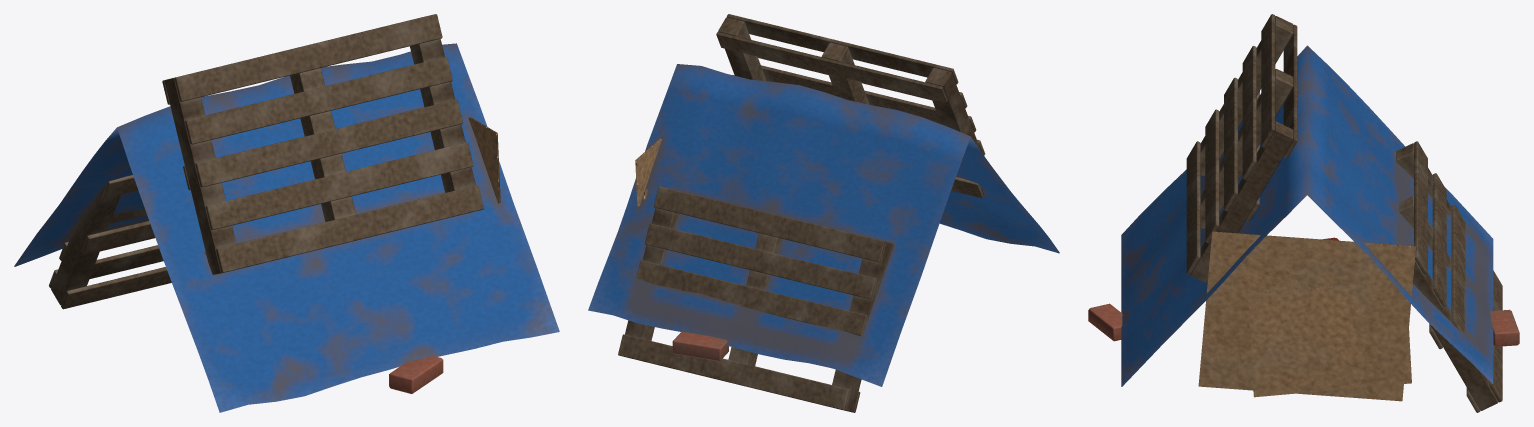
File: bezd_szalas.glb
The picture shows the model from 3 angles, left to right: view 1: azimuth 30°, elevation 25°; view 2: azimuth 150°, elevation 25°; view 3: azimuth 270°, elevation 25°; orthographic projection. The views are drawn at different scales.
Parts seen in each view (by area): view 1: Plandeka, Szalas; view 2: Plandeka, Szalas; view 3: Szalas, Plandeka.
Boxes of the visible parts, x1,y1,x2,y2 form: Plandeka: (14,43,559,412); Szalas: (49,14,500,393); Plandeka: (588,64,1059,386); Szalas: (618,14,985,412); Szalas: (1088,14,1519,412); Plandeka: (1121,45,1493,386).
Bounding box in the file's own units: 1.56 × 1.38 × 1.9.
Materials: 2 (2 with a texture image).
